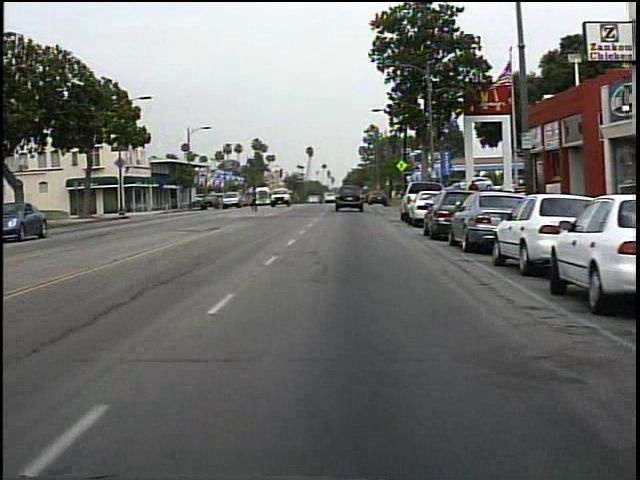person: (463, 176, 482, 217), (248, 182, 266, 213)
